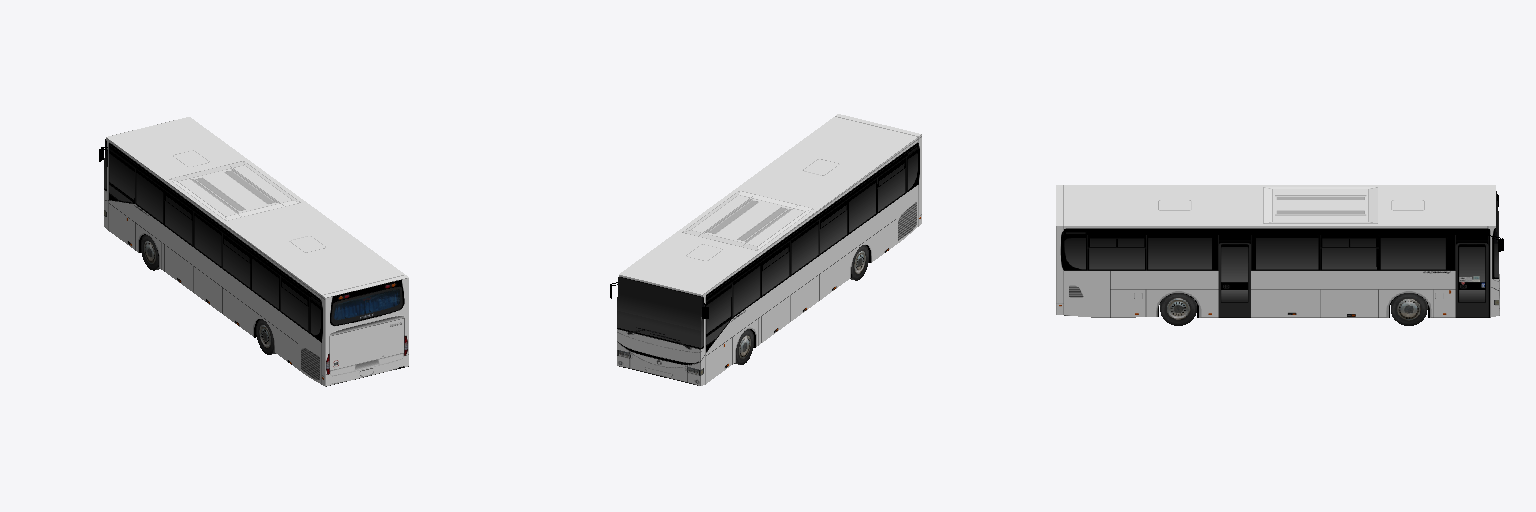
3 views of the same model, side by side, from view 1: azimuth 30°, elevation 25°; view 2: azimuth 150°, elevation 25°; view 3: azimuth 270°, elevation 25° (orthographic).
Visible parts, largest first — view 1: Box010; view 2: Box010; view 3: Box010, Cylinder006, Cylinder005.
Boxes of the visible parts, box(x1,y1,x2,y2) form: Box010: box(104, 117, 408, 386); Box010: box(617, 114, 921, 385); Box010: box(1056, 185, 1499, 317); Cylinder006: box(1391, 293, 1427, 325); Cylinder005: box(1160, 293, 1196, 325).
Bounding box in the file's own units: 3.27 × 3.2 × 12.9.
1 materials, 1 textured.